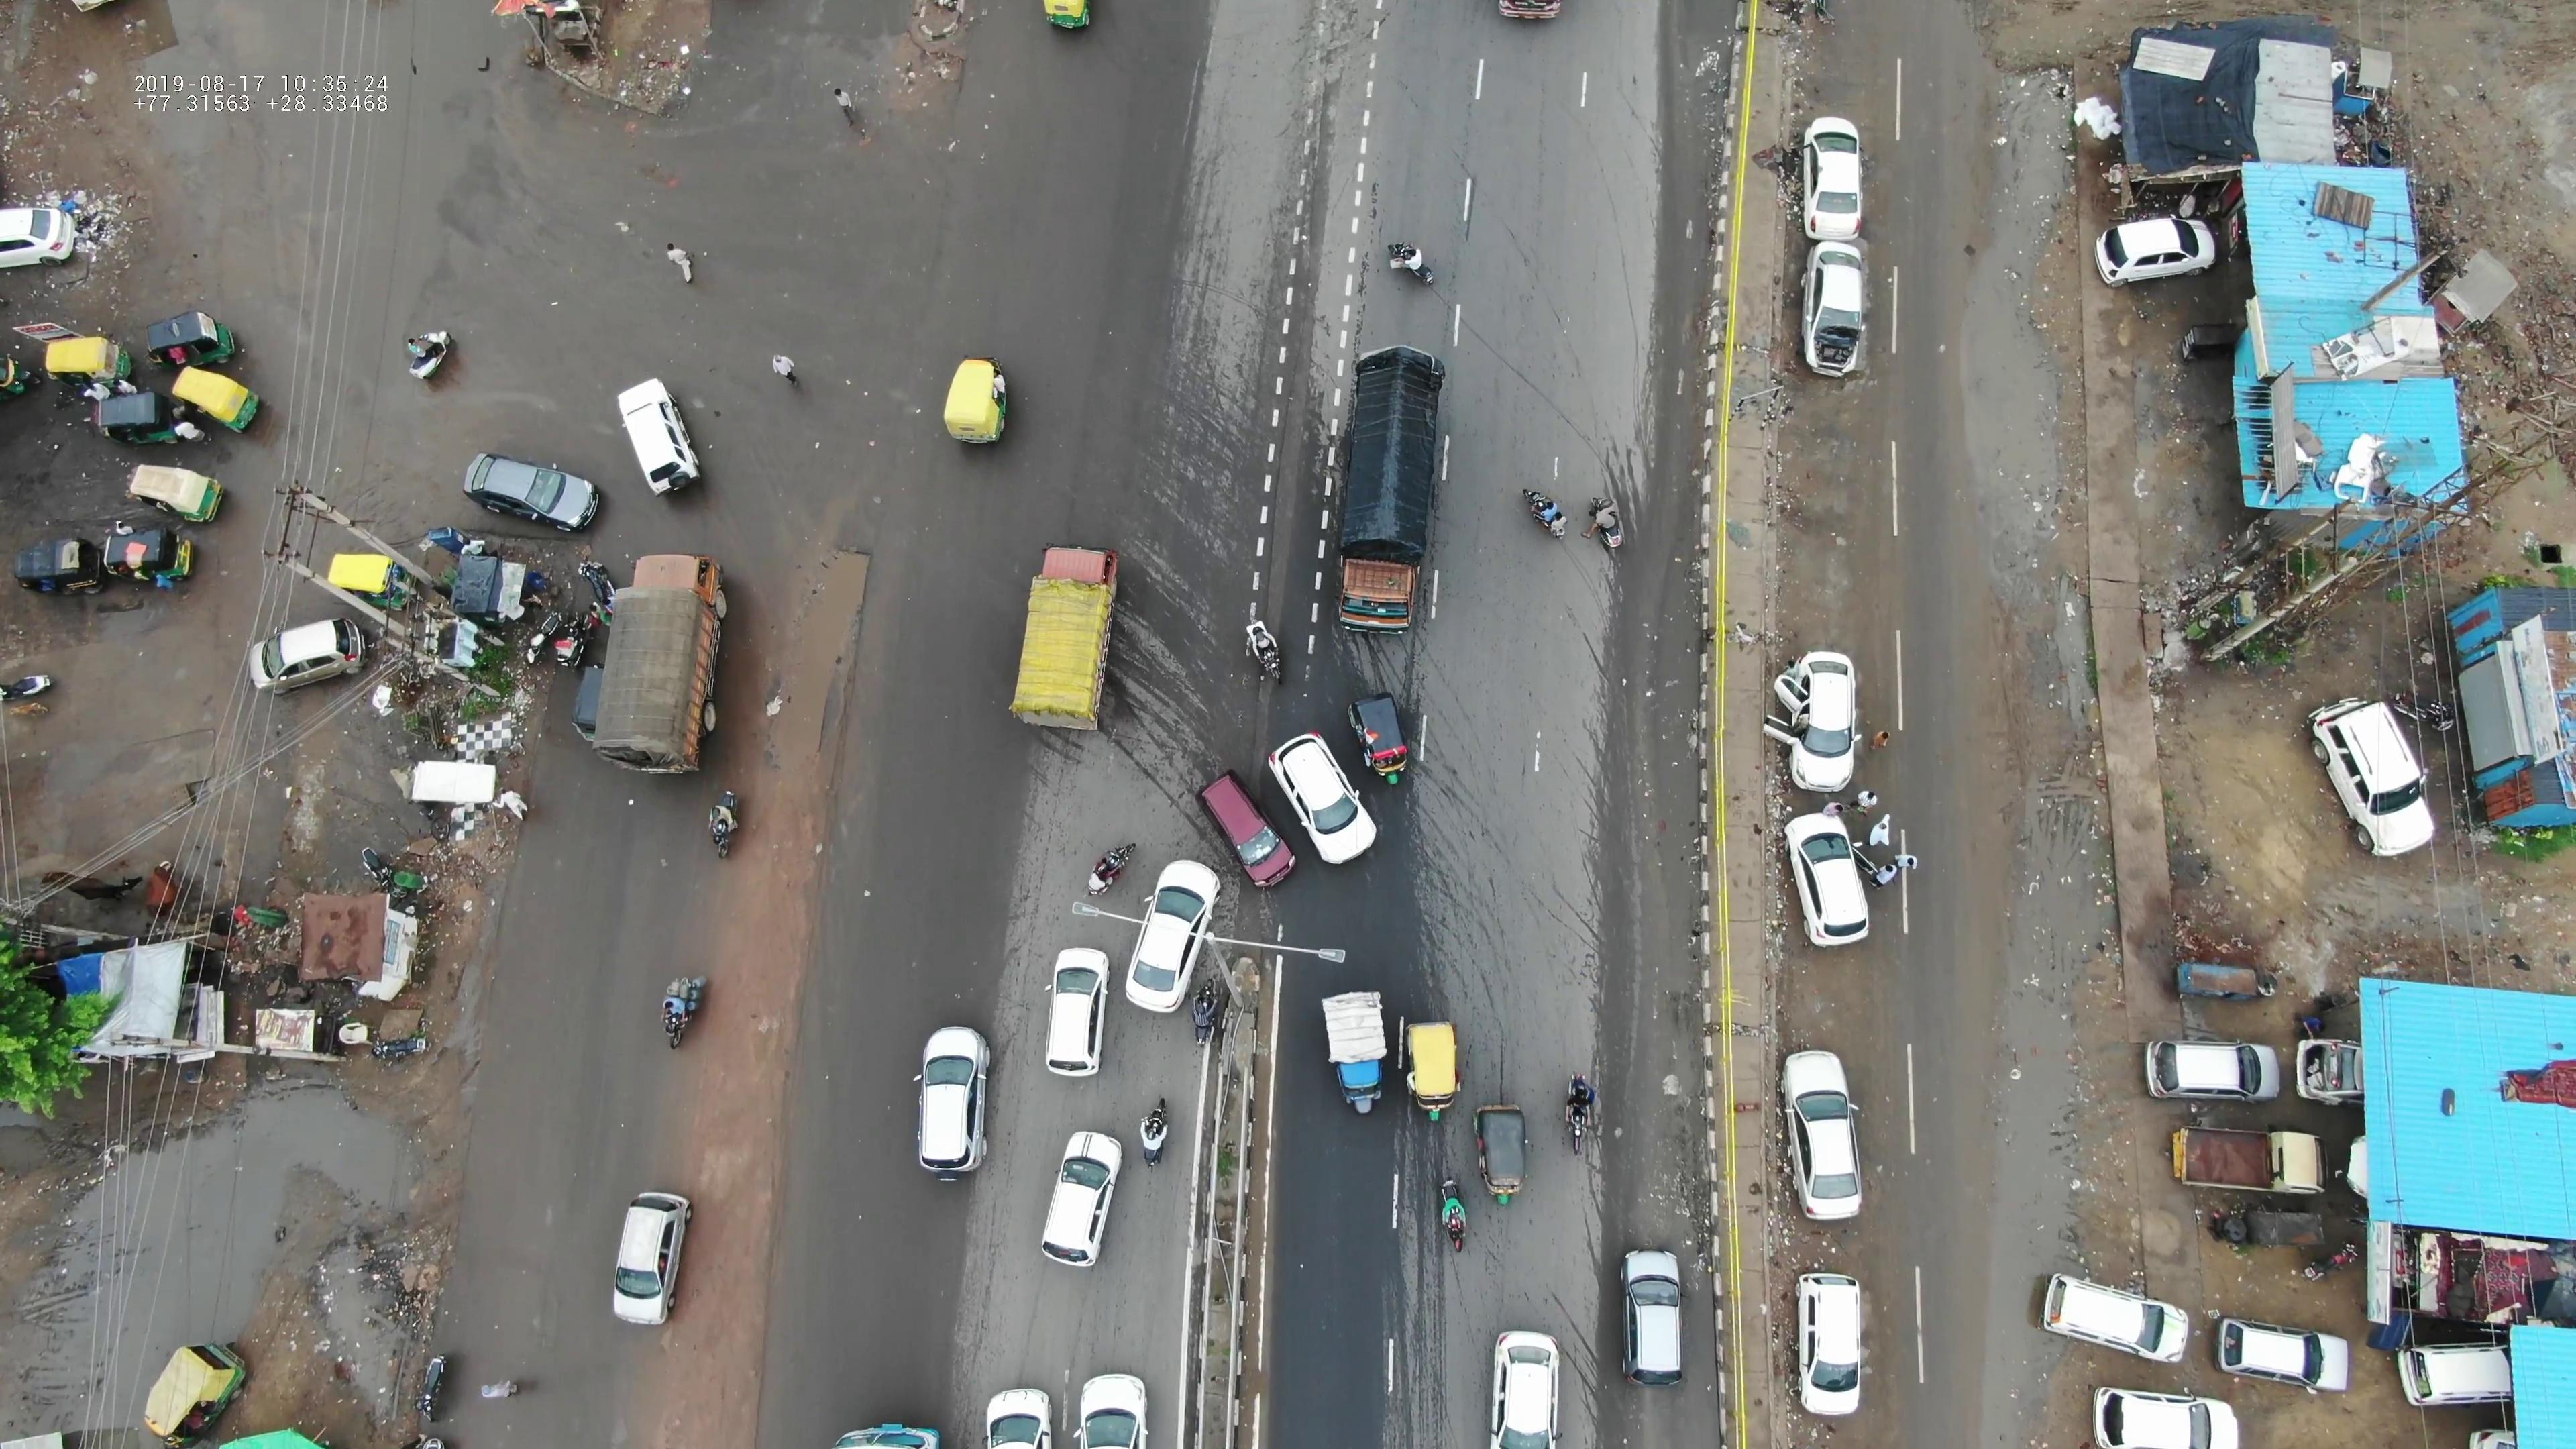Waterlogging: (1983, 777, 2127, 1269), (1955, 64, 2063, 557)
